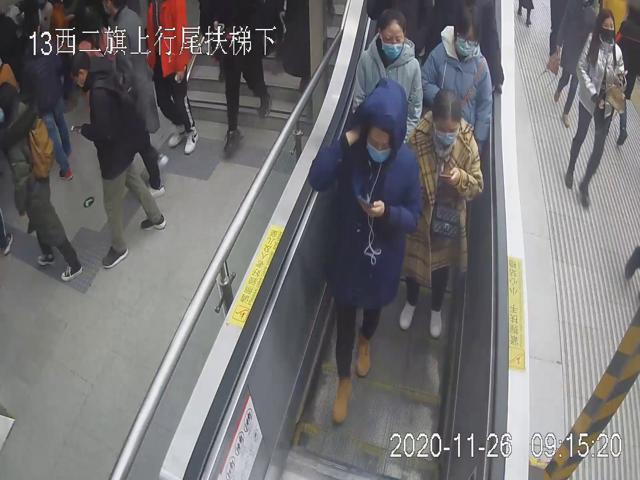person: (307, 74, 422, 428), (397, 84, 483, 338), (563, 5, 632, 208), (422, 4, 493, 158), (350, 5, 422, 147)
